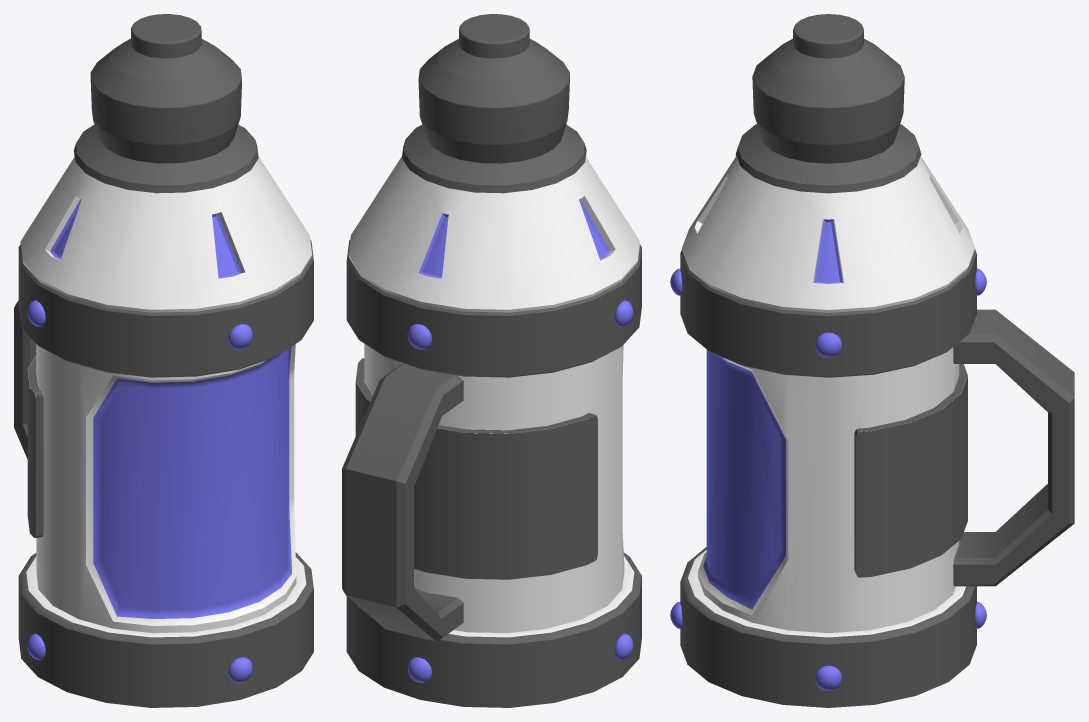
Rendered from kitchenBlender.glb.
The picture shows the model from 3 angles, left to right: view 1: azimuth 30°, elevation 25°; view 2: azimuth 150°, elevation 25°; view 3: azimuth 270°, elevation 25°; orthographic projection.
Visible parts, largest first — view 1: kitchenBlender; view 2: kitchenBlender; view 3: kitchenBlender.
Part boxes in pixels (x1,y1,x2,y2): kitchenBlender: (14, 14, 313, 707); kitchenBlender: (342, 14, 641, 707); kitchenBlender: (670, 14, 1074, 707).
Bounding box in the file's own units: 0.2561 × 0.5508 × 0.327.
